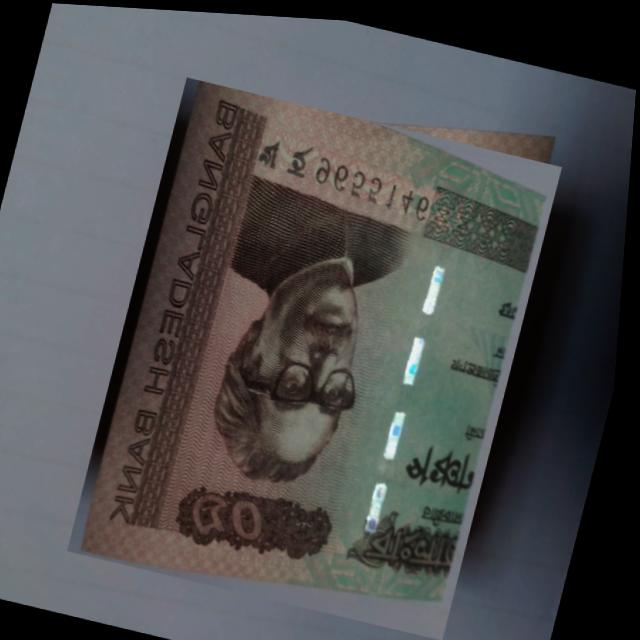Taka: (71, 71, 567, 638)
